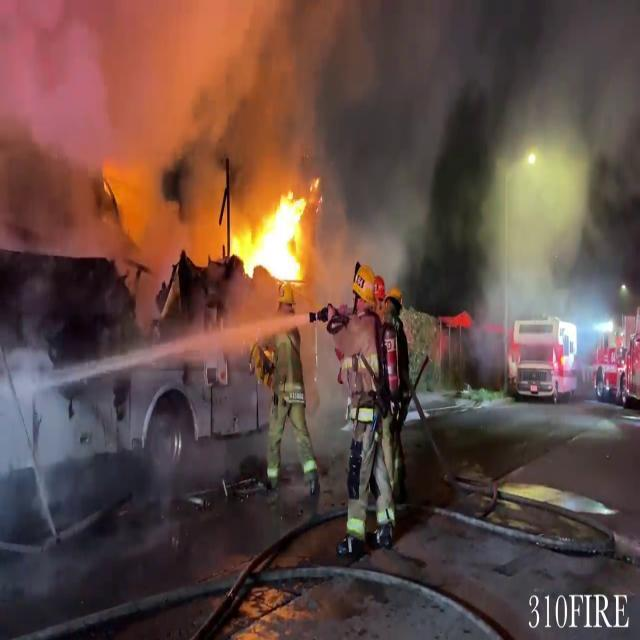Fire: (245, 163, 323, 282)
Smoke: (1, 0, 470, 298), (479, 0, 640, 376)
